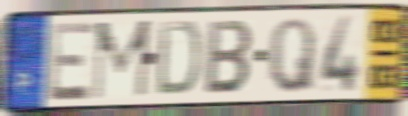4: (317, 13, 364, 96)
B: (202, 18, 256, 97)
D: (153, 19, 203, 99)
E: (46, 19, 98, 104)
M: (90, 16, 153, 103)
Q: (267, 15, 317, 96)
